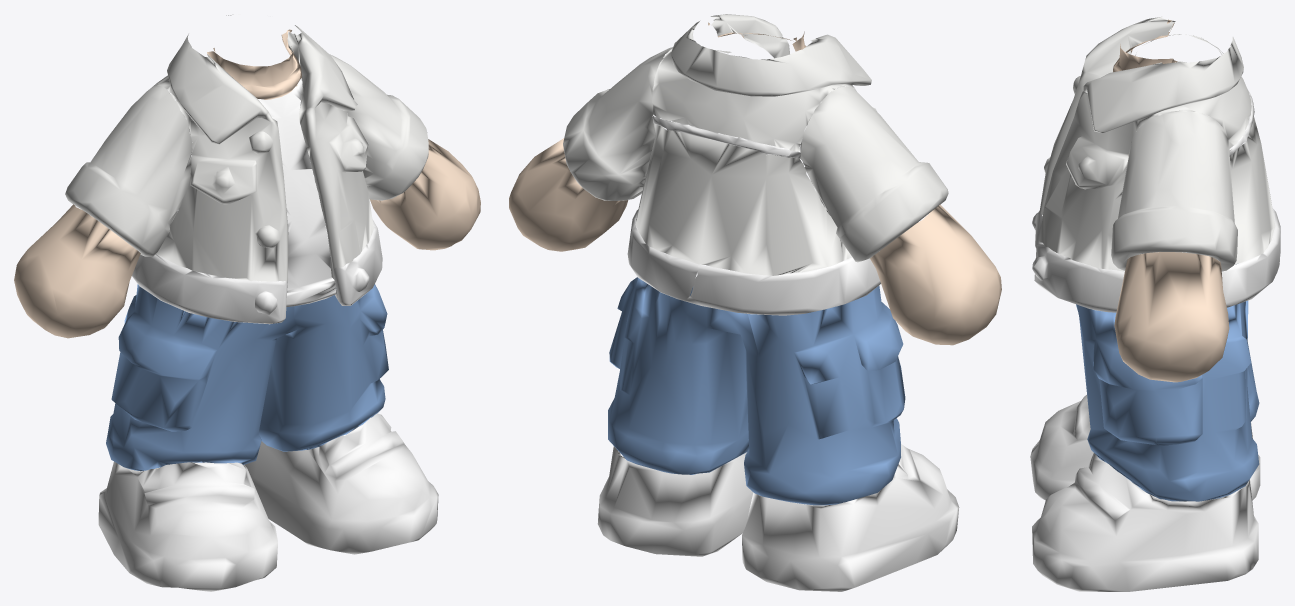
File: outfit_denimcargo_lo.glb
3 renders of one model, left to right at view 1: azimuth 30°, elevation 25°; view 2: azimuth 150°, elevation 25°; view 3: azimuth 270°, elevation 25°, orthographic. The views are drawn at different scales.
Visible parts, largest first — view 1: bottom, top, shoe_r, shoe_l, sleeve_r, hand_r, trim_3, hand_l, sleeve_l, trim, neck, trim_2; view 2: bottom, top, shoe_r, sleeve_r, hand_r, shoe_l, sleeve_l, trim, hand_l, trim_2, trim_4; view 3: top, bottom, shoe_l, sleeve_l, hand_l, trim_2, shoe_r, neck, trim.
Boxes of the visible parts, x1,y1,x2,y2 form: bottom: (106, 284, 388, 471); top: (152, 14, 373, 281); shoe_r: (98, 461, 277, 591); shoe_l: (245, 413, 438, 554); sleeve_r: (65, 84, 192, 256); hand_r: (14, 204, 140, 338); trim_3: (258, 80, 336, 307); hand_l: (370, 139, 480, 250); sleeve_l: (330, 54, 428, 200); trim: (132, 254, 287, 324); neck: (207, 29, 301, 99); trim_2: (333, 219, 382, 305); bottom: (608, 277, 905, 505); top: (636, 14, 876, 275); shoe_r: (742, 444, 959, 591); sleeve_r: (800, 86, 948, 262); hand_r: (870, 204, 1001, 345); shoe_l: (597, 446, 753, 556); sleeve_l: (563, 47, 672, 200); trim: (683, 256, 880, 315); hand_l: (509, 138, 628, 251); trim_2: (627, 209, 700, 300); trim_4: (652, 115, 800, 158); top: (1039, 16, 1275, 271); bottom: (1076, 264, 1259, 501); shoe_l: (1032, 453, 1258, 591); sleeve_l: (1111, 110, 1237, 271); hand_l: (1114, 252, 1229, 382); trim_2: (1032, 226, 1280, 312); shoe_r: (1030, 395, 1260, 501); neck: (1113, 19, 1177, 72); trim: (1032, 208, 1280, 256).
Size of the model in its own units: 0.5626 by 0.586 by 0.2727.
